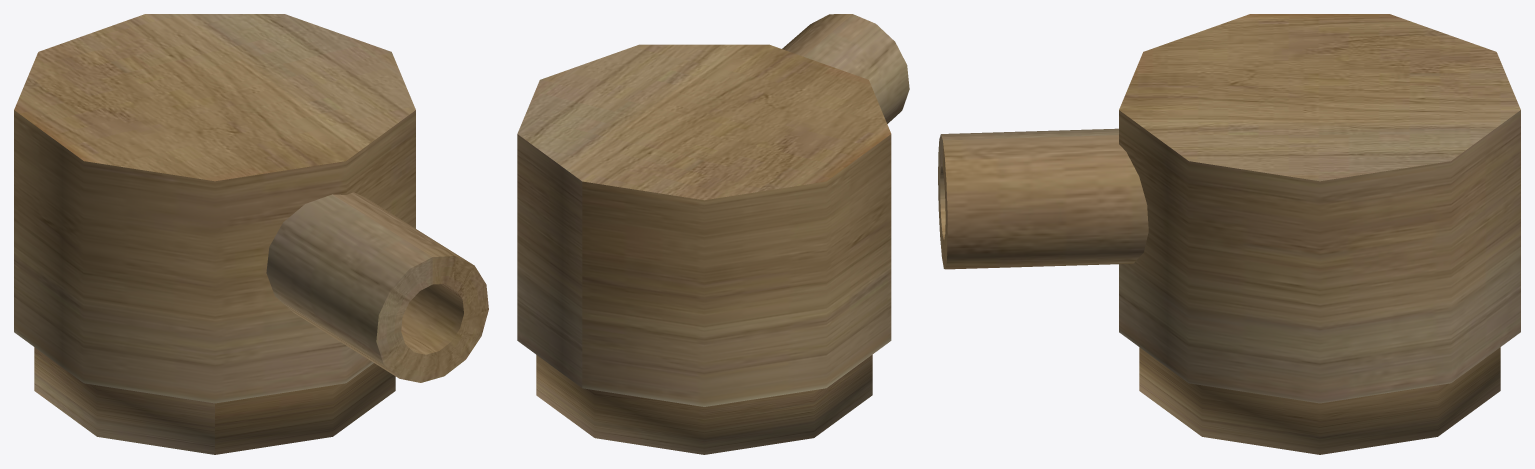
File: Torre 1 Cañon.FBX
3 views of the same model, side by side, from view 1: azimuth 30°, elevation 25°; view 2: azimuth 150°, elevation 25°; view 3: azimuth 270°, elevation 25° (orthographic). The views are drawn at different scales.
Parts seen in each view (by area): view 1: Cylinder002; view 2: Cylinder002; view 3: Cylinder002.
Boxes of the visible parts, <box> form: Cylinder002: <box>14,14,488,454</box>; Cylinder002: <box>517,14,909,454</box>; Cylinder002: <box>938,14,1520,454</box>.
Size of the model in its own units: 162 by 127 by 238.
